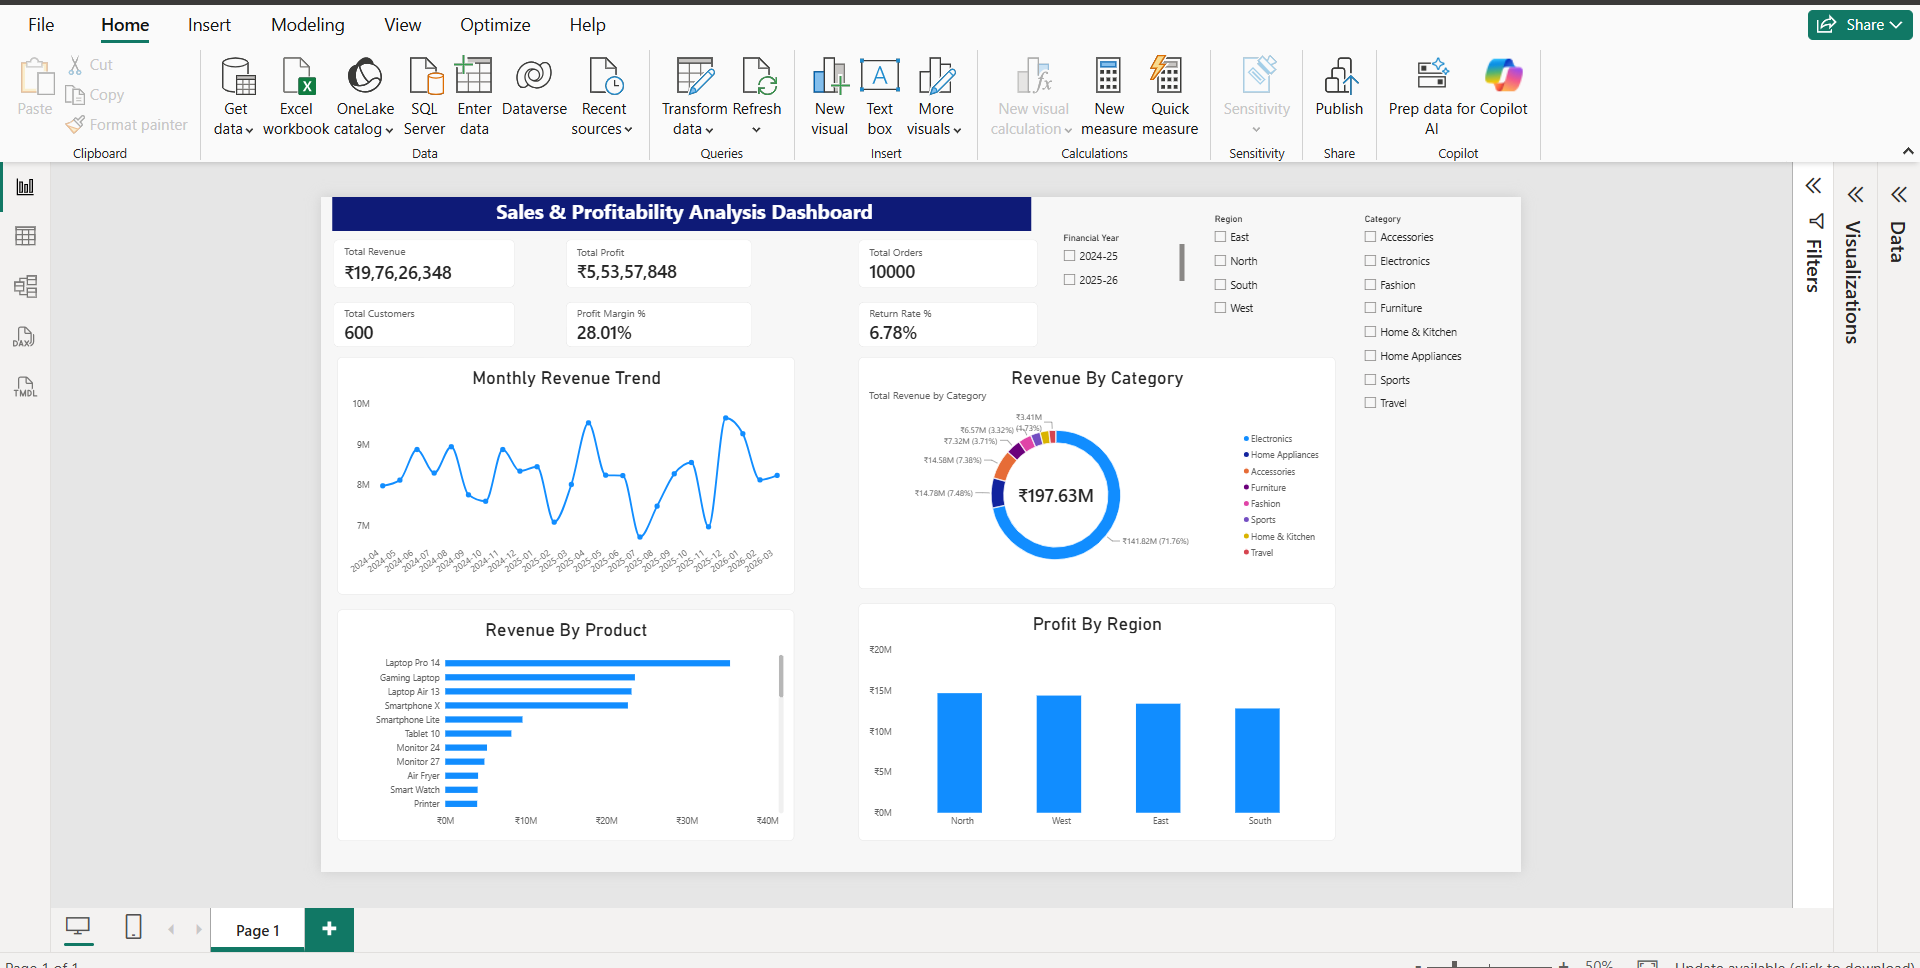

The dashboard page shown, as its layout file describes it:
{"tool":"powerbi","page":{"name":"Page 1","canvas":[1920,1080],"ordinal":0},"visuals":[{"type":"cardVisual","fields":{"Data":["Orders.Total Revenue"]},"box":[20,68.6,290,77.1],"z":0},{"type":"cardVisual","fields":{"Data":["Orders.Total Profit"]},"box":[391.4,68.6,297.1,77.1],"z":1},{"type":"cardVisual","fields":{"Data":["Orders.Total Customers"]},"box":[20,167.1,290,72.9],"z":3},{"type":"cardVisual","fields":{"Data":["Orders.Profit Margin %"]},"box":[391.4,167.1,297.1,72.9],"z":4},{"type":"cardVisual","fields":{"Data":["Orders.Return Rate %"]},"box":[860,167.1,287.1,72.9],"z":5},{"type":"textbox","box":[17.1,0,1118.6,54.3],"z":6},{"type":"cardVisual","fields":{"Data":["Orders.Total Orders"]},"box":[860,68.6,287.1,77.1],"z":7},{"type":"lineChart","title":"Monthly Revenue Trend","fields":{"Category":["Orders.Year-Month"],"Y":["Orders.Total Revenue"]},"box":[26,256,732,380],"z":8},{"type":"clusteredColumnChart","title":"Profit By Region","fields":{"Category":["Orders.Region"],"Y":["Orders.Total Profit"]},"box":[860,650,762.9,380],"z":9},{"type":"clusteredBarChart","title":"Revenue By Product","fields":{"Category":["Orders.Product"],"Y":["Orders.Total Revenue"]},"box":[26,660,731.4,370],"z":10},{"type":"donutChart","title":"Revenue By Category","fields":{"Category":["Orders.Category"],"Y":["Orders.Total Revenue"]},"box":[860,256,762.9,371.4],"z":11},{"type":"slicer","fields":{"Values":["Orders.Financial Year"]},"box":[1180,55,201.7,90],"z":12},{"type":"slicer","fields":{"Values":["Orders.Region"]},"box":[1421.7,26.7,180,203.3],"z":13},{"type":"slicer","fields":{"Values":["Orders.Category"]},"box":[1661.7,26.7,180,350],"z":14}]}

Visuals, with their boxes on the page's 1920x1080 design canvas (x1, y1, x2, y2). These are canvas units, not pixel positions in the 1920x968 screenshot, which may show the page scaled, cropped or inside an application window:
cardVisual - Orders.Total Revenue: [x1=20, y1=69, x2=310, y2=146]
cardVisual - Orders.Total Profit: [x1=391, y1=69, x2=688, y2=146]
cardVisual - Orders.Total Customers: [x1=20, y1=167, x2=310, y2=240]
cardVisual - Orders.Profit Margin %: [x1=391, y1=167, x2=688, y2=240]
cardVisual - Orders.Return Rate %: [x1=860, y1=167, x2=1147, y2=240]
textbox: [x1=17, y1=0, x2=1136, y2=54]
cardVisual - Orders.Total Orders: [x1=860, y1=69, x2=1147, y2=146]
"Monthly Revenue Trend" lineChart: [x1=26, y1=256, x2=758, y2=636]
"Profit By Region" clusteredColumnChart: [x1=860, y1=650, x2=1623, y2=1030]
"Revenue By Product" clusteredBarChart: [x1=26, y1=660, x2=757, y2=1030]
"Revenue By Category" donutChart: [x1=860, y1=256, x2=1623, y2=627]
slicer - Orders.Financial Year: [x1=1180, y1=55, x2=1382, y2=145]
slicer - Orders.Region: [x1=1422, y1=27, x2=1602, y2=230]
slicer - Orders.Category: [x1=1662, y1=27, x2=1842, y2=377]
